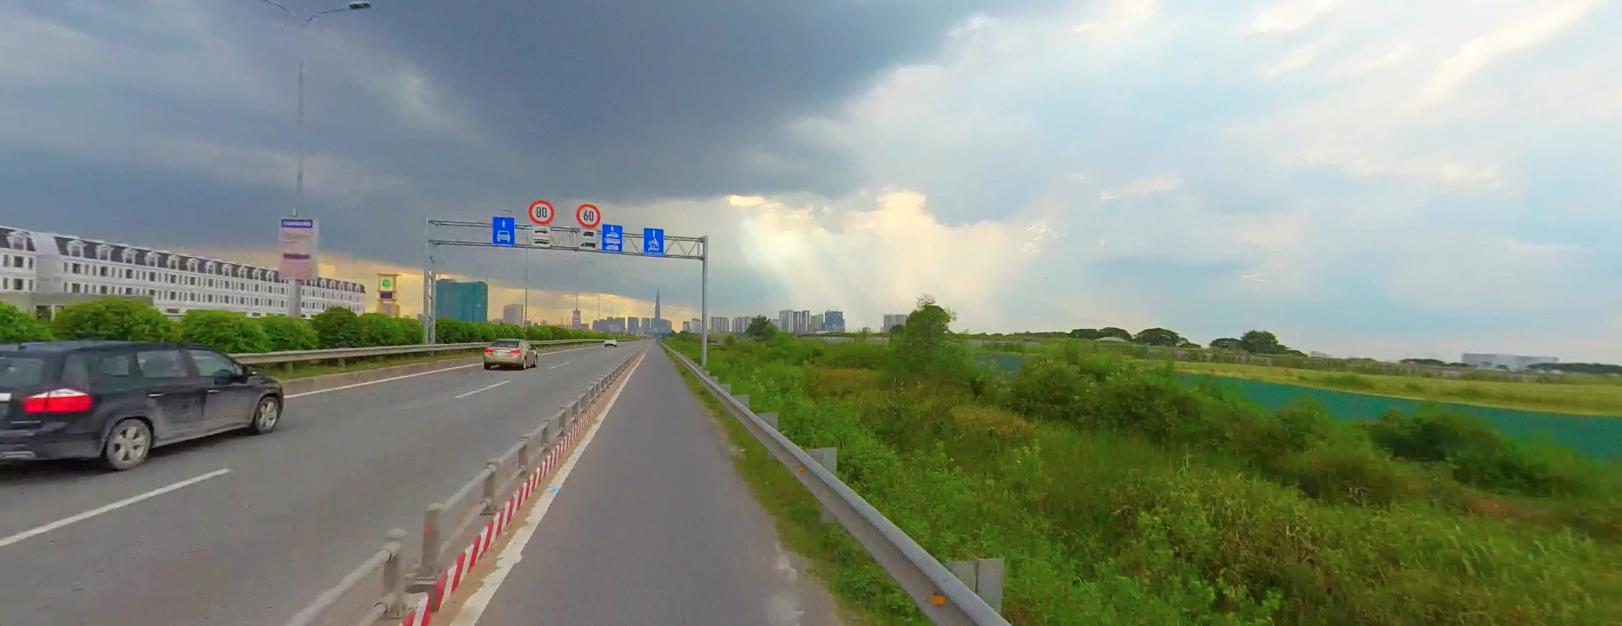Gioi han toc do: (528, 198, 554, 223), (575, 202, 600, 226)
